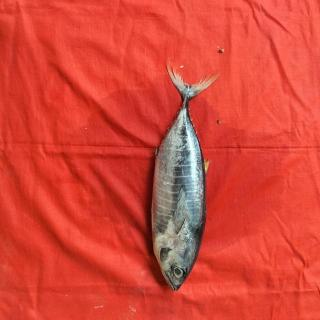Ikan: (144, 56, 223, 296)
